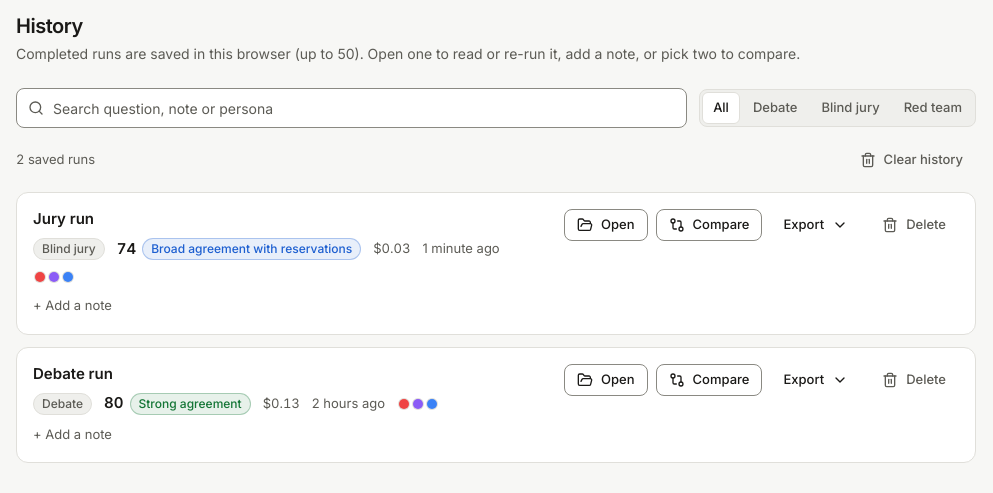
it: HistoryView › persists notes
The width and height of the screenshot is (993, 493).
Step 1. Click the button "+ Add a note" below "80" → [72, 435], box [29,423,116,446]
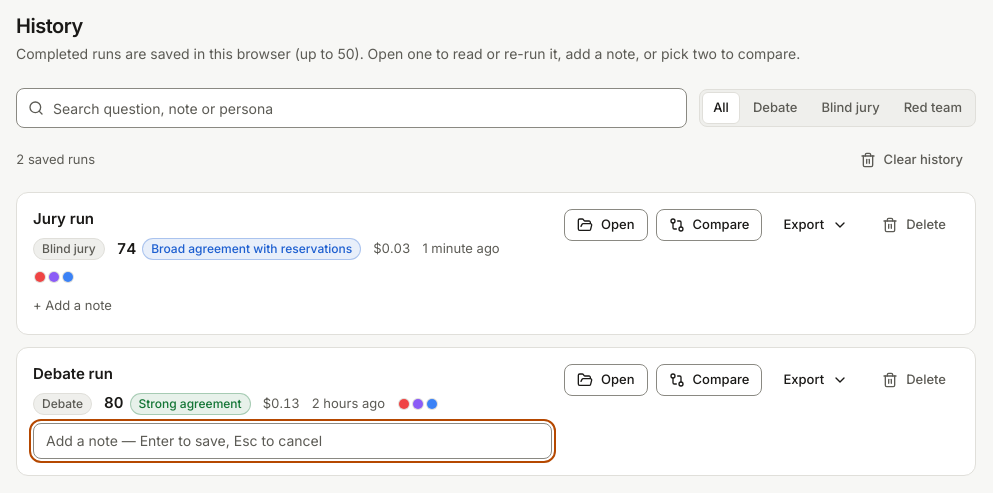
Step 2. Type "Try with a judge next time" into the field → [293, 441], box [33,423,552,459]
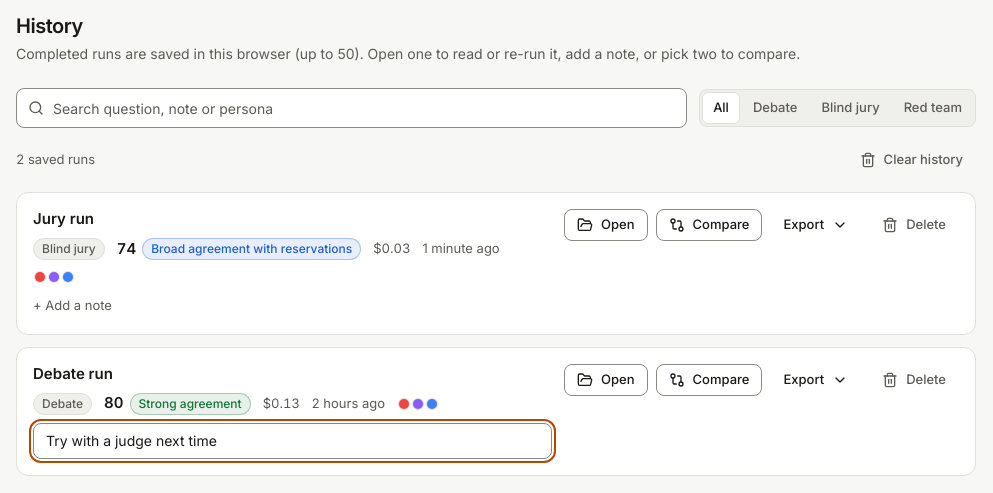
Step 3. Press Enter in the field, box [33,423,552,459]
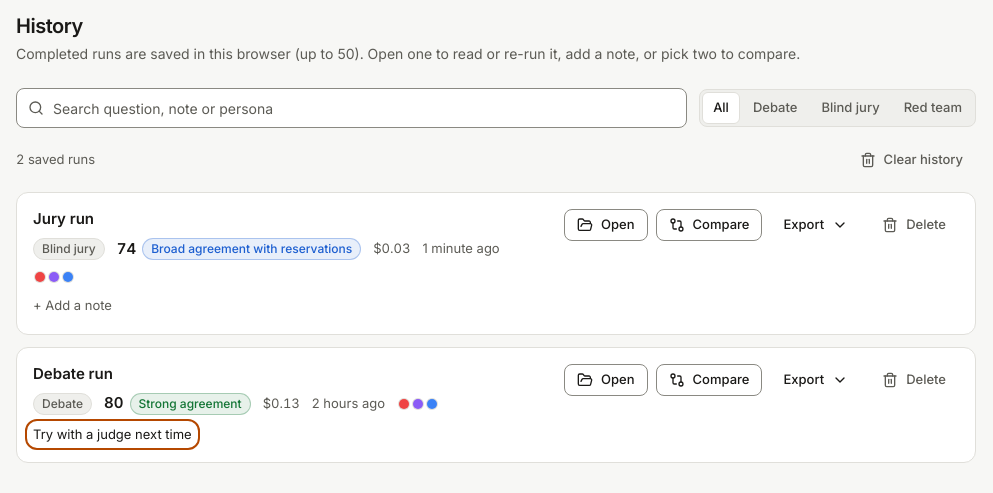
Expected: the button "Try with a judge next time" is shown, [29,423,196,446]
